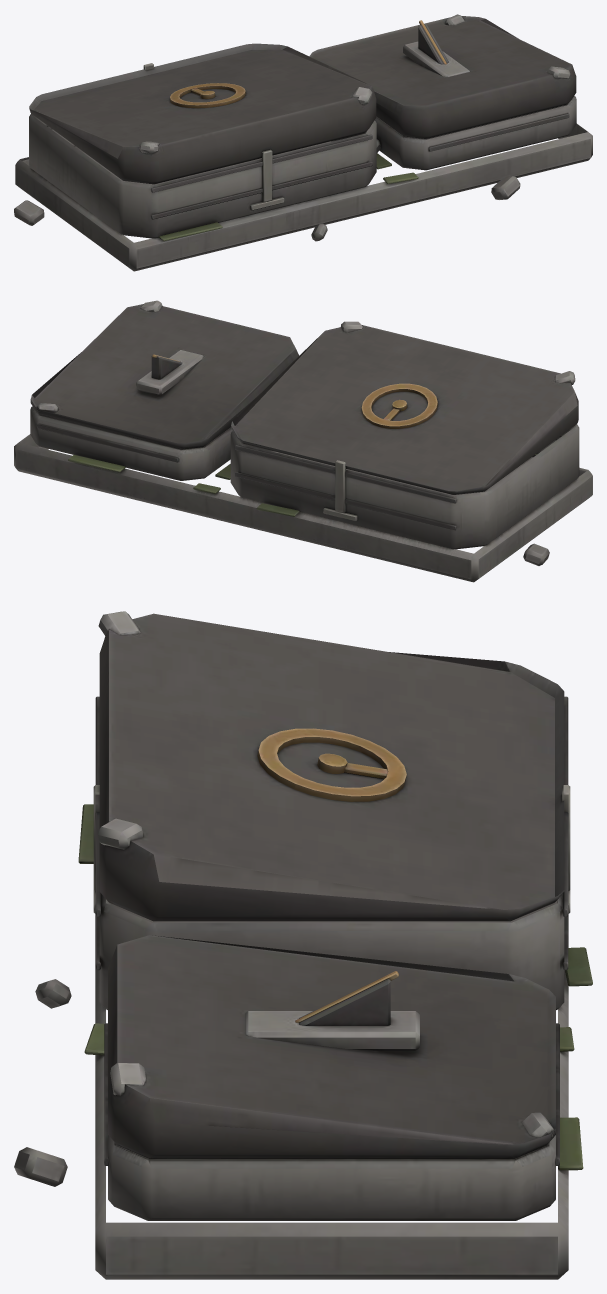
Rendered from hour_stone_g.glb.
3 views of the same model, one above another, from view 1: azimuth 30°, elevation 25°; view 2: azimuth 150°, elevation 25°; view 3: azimuth 270°, elevation 25° (orthographic). The views are drawn at different scales.
Parts seen in each view (by area): view 1: hour_stone_g_body; view 2: hour_stone_g_body; view 3: hour_stone_g_body.
Part boxes in pixels (x1,y1,x2,y2): hour_stone_g_body: (14,14,592,271); hour_stone_g_body: (14,300,592,582); hour_stone_g_body: (14,611,592,1279).
Bounding box in the file's own units: 5.43 × 1.31 × 2.76.
1 material, 1 textured.
